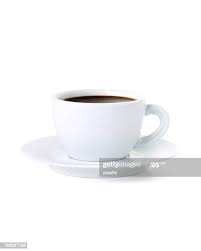cup: (44, 85, 175, 164)
